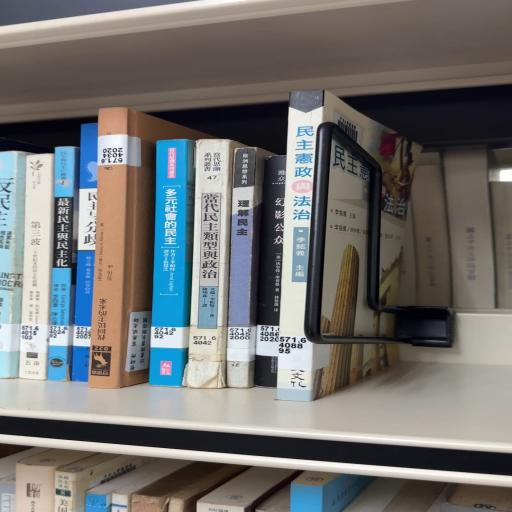reverse: (90, 108, 214, 389)
